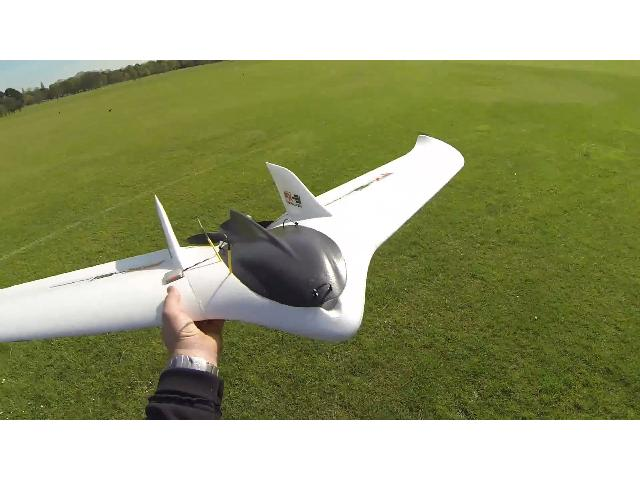Anti-Drone: (0, 128, 470, 352)
